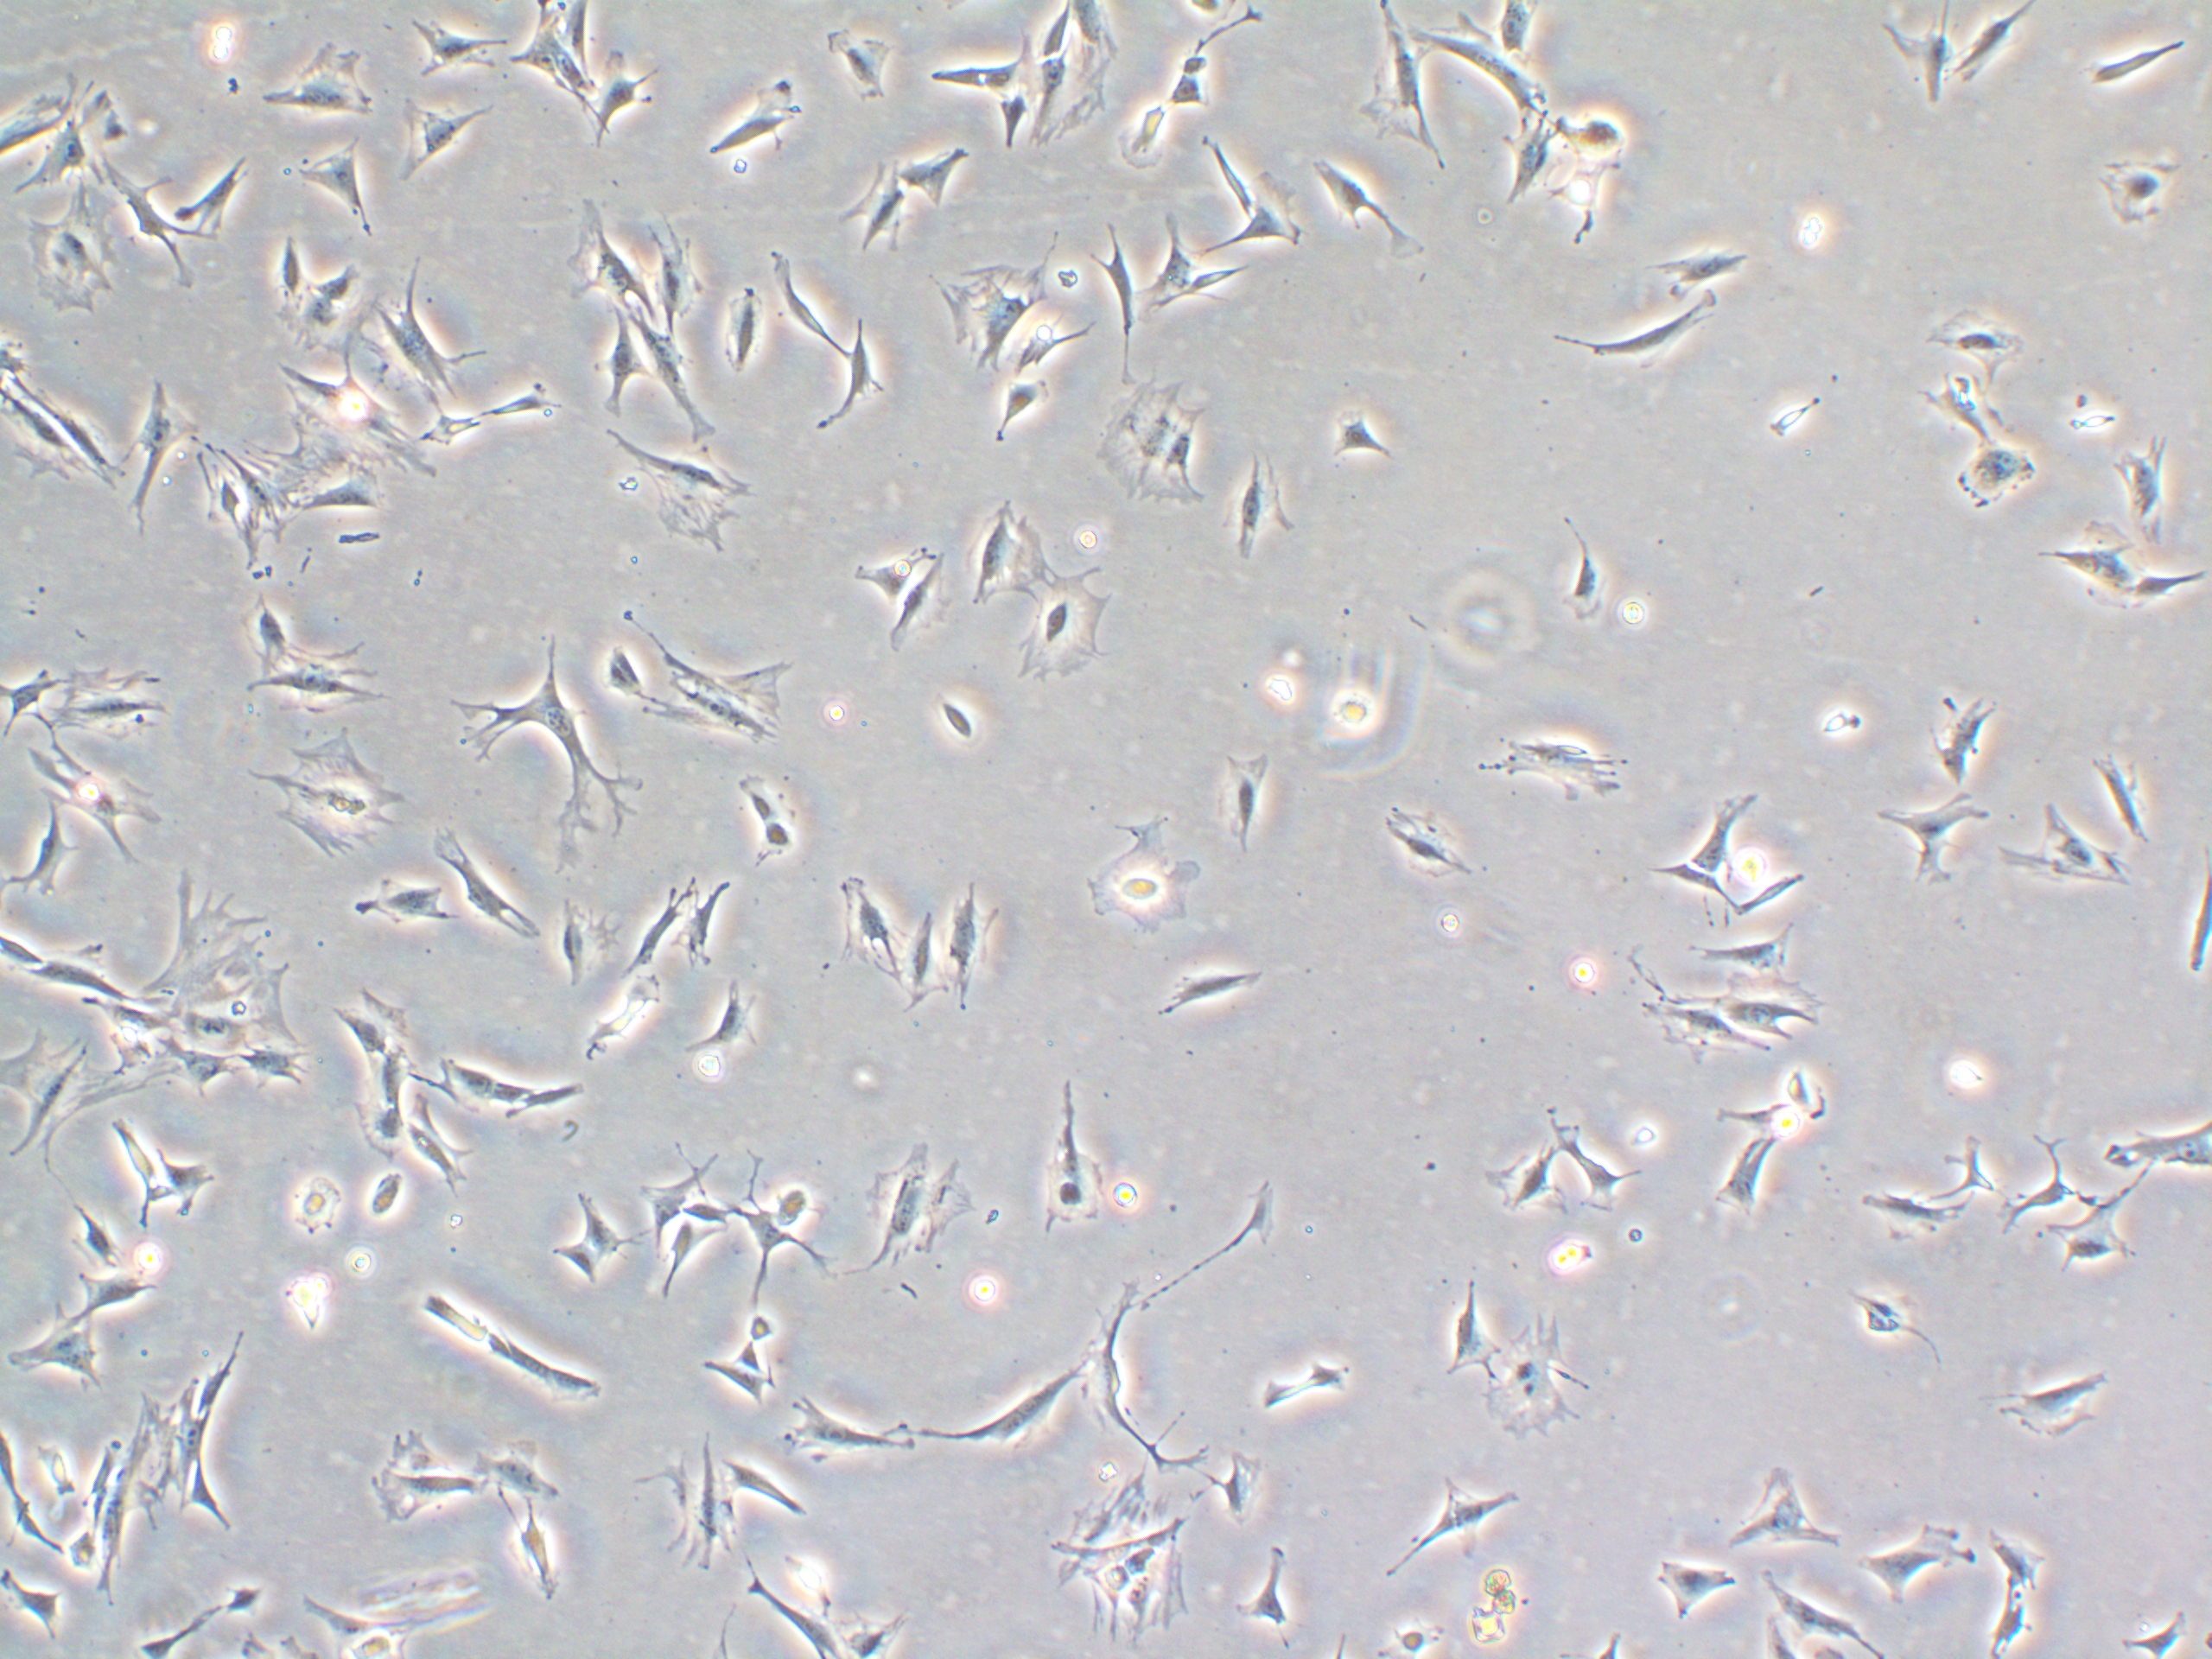small: (1745, 378, 1831, 464), (1305, 678, 1395, 758), (914, 683, 996, 762), (272, 1164, 355, 1241), (1350, 1612, 1454, 1659), (14, 1438, 84, 1504), (1773, 1056, 1838, 1124), (2055, 390, 2132, 443), (733, 763, 796, 826), (1811, 694, 1874, 756), (751, 821, 808, 887), (219, 1560, 268, 1619), (728, 1307, 794, 1351), (369, 1164, 416, 1223), (726, 1337, 766, 1373)
spread: (125, 882, 320, 1044), (1064, 800, 1230, 955), (622, 619, 799, 760), (237, 732, 415, 871), (1049, 1473, 1188, 1650), (592, 437, 756, 575), (258, 368, 448, 484), (1078, 376, 1233, 518), (846, 1136, 982, 1274), (12, 192, 146, 328), (87, 1384, 211, 1528), (0, 1026, 122, 1173), (1486, 1305, 1606, 1453), (995, 23, 1120, 159), (1472, 728, 1655, 819), (1012, 563, 1120, 713), (937, 246, 1066, 371), (240, 31, 388, 129), (954, 490, 1057, 613), (40, 653, 181, 741), (266, 286, 399, 373), (232, 645, 395, 714)
